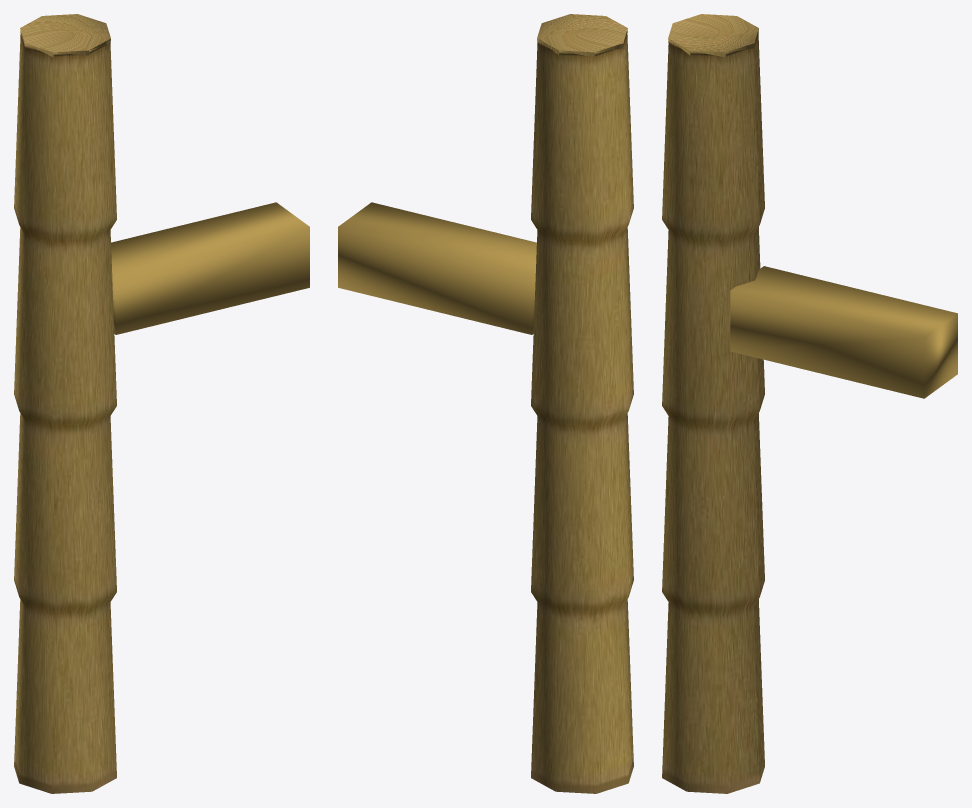
Rendered from turtle-prop-gate-post.glb.
The picture shows the model from 3 angles, left to right: view 1: azimuth 30°, elevation 25°; view 2: azimuth 150°, elevation 25°; view 3: azimuth 330°, elevation 25°; orthographic projection.
Visible parts, largest first — view 1: gate-post; view 2: gate-post; view 3: gate-post.
Boxes of the visible parts, box(x1,y1,x2,y2) form: gate-post: box(14, 14, 309, 793); gate-post: box(338, 14, 633, 793); gate-post: box(662, 14, 957, 793).
Bounding box in the file's own units: 0.0424 × 0.1092 × 0.0143.
1 material, 1 textured.
